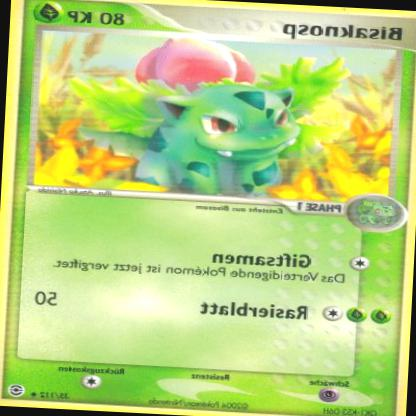Ivysaur: (59, 33, 351, 199)
